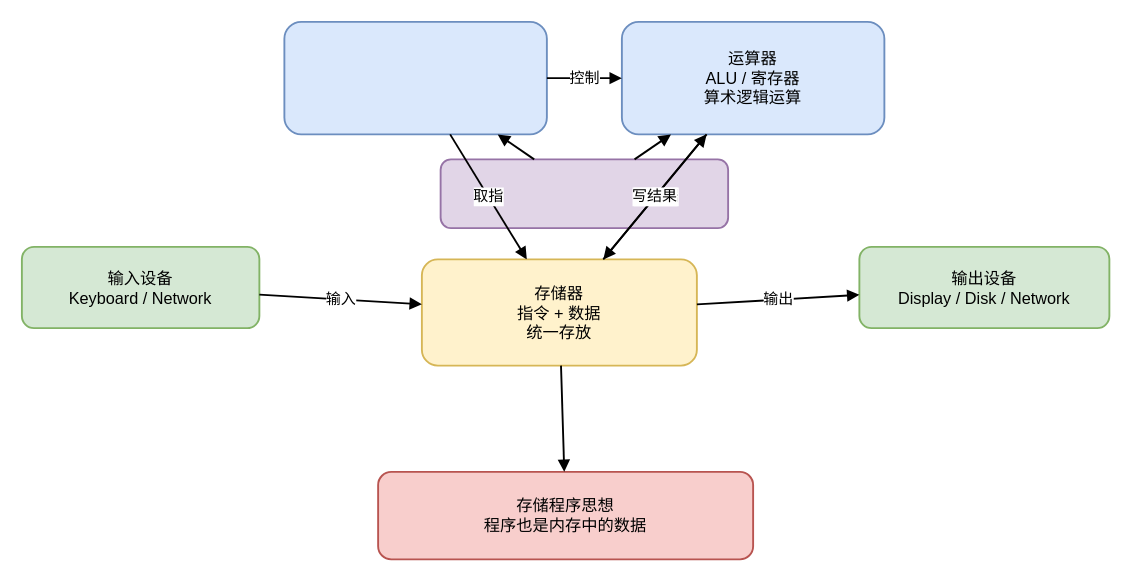
Image size: 1133x583. Some labels were removed from this diagram. Each missing label, with the centre of its shape:
"CPU = 控制器 + 运算器" belongs at [583,193].
"控制器 PC / IR 取指译码发控制信号" belongs at [415,77].
